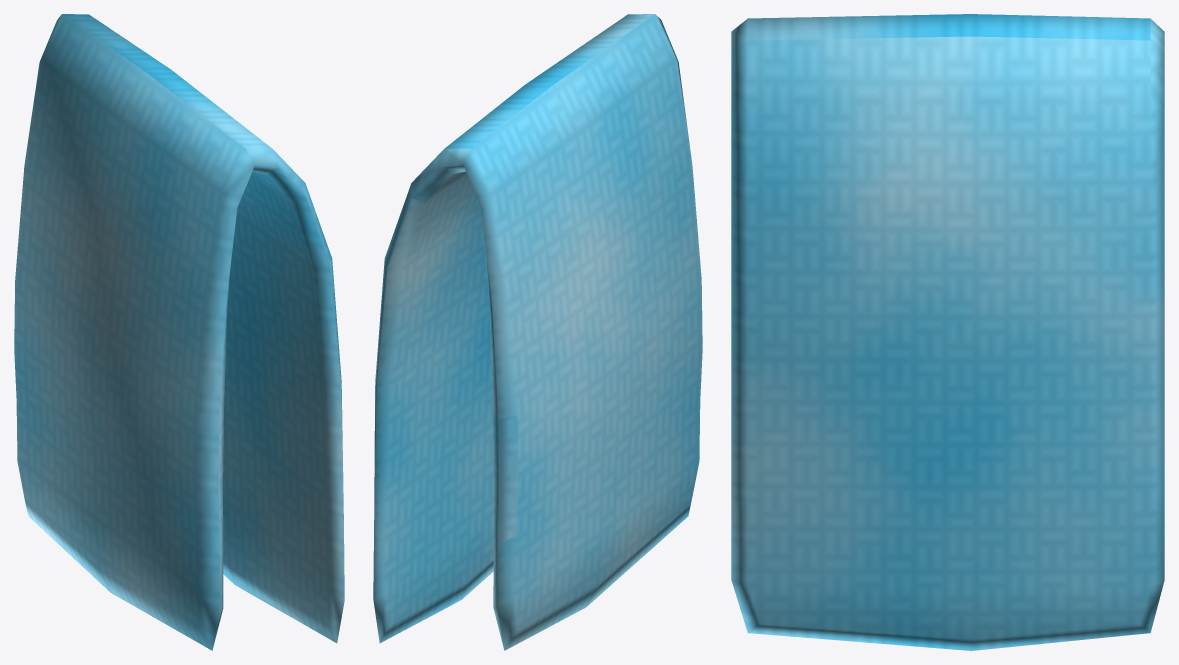
File: Blanket_Dream.fbx
3 views of the same model, side by side, from view 1: azimuth 30°, elevation 25°; view 2: azimuth 150°, elevation 25°; view 3: azimuth 270°, elevation 25° (orthographic). The views are drawn at different scales.
Parts seen in each view (by area): view 1: Empty_Mesh; view 2: Empty_Mesh; view 3: Empty_Mesh.
Part boxes in pixels (x1,y1,x2,y2): Empty_Mesh: [14, 14, 344, 650]; Empty_Mesh: [373, 14, 702, 650]; Empty_Mesh: [731, 14, 1164, 650].
Size of the model in its own units: 1.04 by 3.56 by 2.38.
